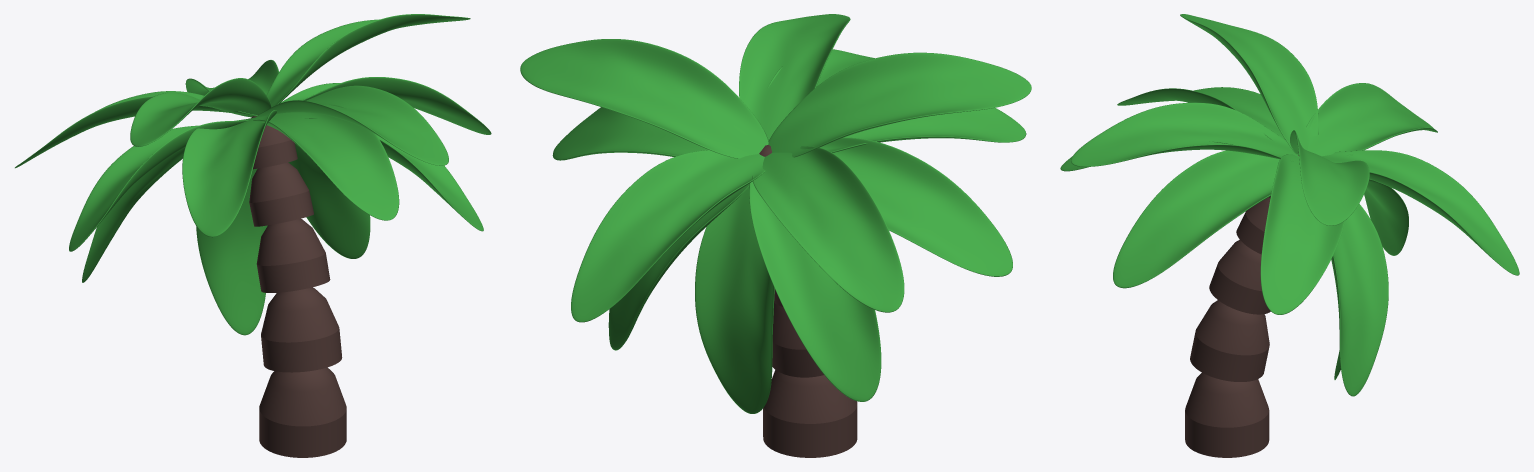
File: tree1.fbx
3 views of the same model, side by side, from view 1: azimuth 30°, elevation 25°; view 2: azimuth 150°, elevation 25°; view 3: azimuth 270°, elevation 25° (orthographic). The views are drawn at different scales.
Visible parts, largest first — view 1: pCylinder18, pDisc48, pDisc49, pDisc42, pDisc45, pDisc41, pDisc47, pDisc46, pDisc52, pDisc51, pDisc44, pDisc50 (+2 smaller); view 2: pDisc47, pDisc46, pDisc40, pDisc43, pDisc42, pDisc41, pDisc44, pCylinder18, pDisc45, pDisc51, pDisc49, pDisc52 (+1 smaller); view 3: pCylinder18, pDisc50, pDisc45, pDisc51, pDisc52, pDisc46, pDisc40, pDisc43, pDisc47, pDisc49, pDisc44.
Boxes of the visible parts, left/top/right/bottom form: pCylinder18: left=249, top=114, right=346, bottom=457; pDisc48: left=253, top=104, right=399, bottom=220; pDisc49: left=182, top=110, right=276, bottom=237; pDisc42: left=196, top=168, right=267, bottom=335; pDisc45: left=257, top=85, right=448, bottom=165; pDisc41: left=69, top=120, right=248, bottom=251; pDisc47: left=266, top=14, right=470, bottom=106; pDisc46: left=130, top=78, right=271, bottom=146; pDisc52: left=288, top=143, right=370, bottom=258; pDisc51: left=280, top=77, right=491, bottom=134; pDisc44: left=82, top=148, right=184, bottom=282; pDisc50: left=301, top=118, right=483, bottom=231; pDisc47: left=520, top=39, right=768, bottom=158; pDisc46: left=768, top=52, right=1031, bottom=157; pDisc40: left=571, top=150, right=765, bottom=322; pDisc43: left=752, top=146, right=904, bottom=312; pDisc42: left=695, top=187, right=774, bottom=413; pDisc41: left=820, top=137, right=1012, bottom=276; pDisc44: left=749, top=181, right=881, bottom=401; pCylinder18: left=759, top=145, right=857, bottom=457; pDisc45: left=739, top=14, right=850, bottom=140; pDisc51: left=552, top=107, right=708, bottom=160; pDisc49: left=824, top=108, right=1026, bottom=152; pDisc52: left=608, top=183, right=749, bottom=350; pCylinder18: left=1185, top=155, right=1298, bottom=457; pDisc50: left=1113, top=150, right=1279, bottom=288; pDisc45: left=1071, top=102, right=1298, bottom=166; pDisc51: left=1260, top=154, right=1344, bottom=314; pDisc52: left=1331, top=203, right=1388, bottom=396; pDisc46: left=1180, top=14, right=1318, bottom=154; pDisc40: left=1322, top=150, right=1519, bottom=275; pDisc43: left=1306, top=83, right=1437, bottom=156; pDisc47: left=1290, top=130, right=1369, bottom=225; pDisc49: left=1117, top=87, right=1284, bottom=142; pDisc44: left=1364, top=179, right=1408, bottom=255.
Size of the model in its own units: 11.24 by 9.5 by 10.92.
